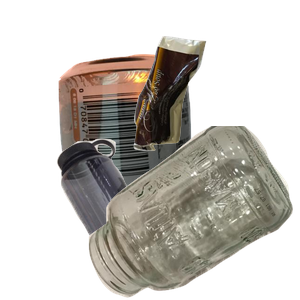glass: (86, 126, 300, 300)
metal: (56, 52, 242, 232)
plastic: (54, 136, 209, 300)
trash: (131, 34, 300, 177)
